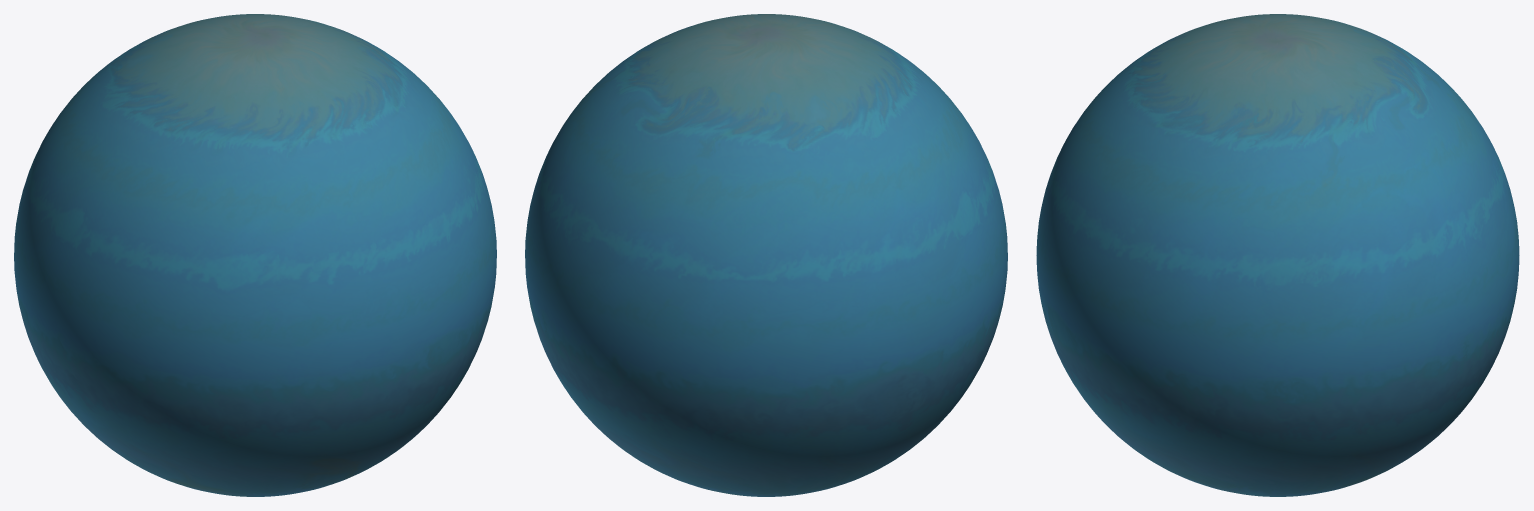
3 views of the same model, side by side, from view 1: azimuth 30°, elevation 25°; view 2: azimuth 150°, elevation 25°; view 3: azimuth 270°, elevation 25° (orthographic).
Visible parts, largest first — view 1: Esfera; view 2: Esfera; view 3: Esfera.
Boxes of the visible parts, box(x1,y1,x2,y2) form: Esfera: box(14, 14, 496, 496); Esfera: box(525, 14, 1007, 496); Esfera: box(1036, 14, 1519, 496).
Bounding box in the file's own units: 2000 × 2000 × 2000.
1 material, 1 textured.
